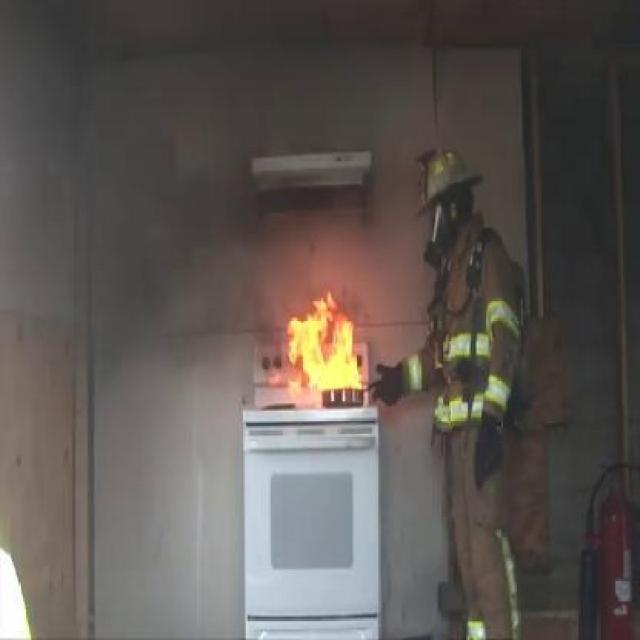fire: (285, 286, 364, 389)
